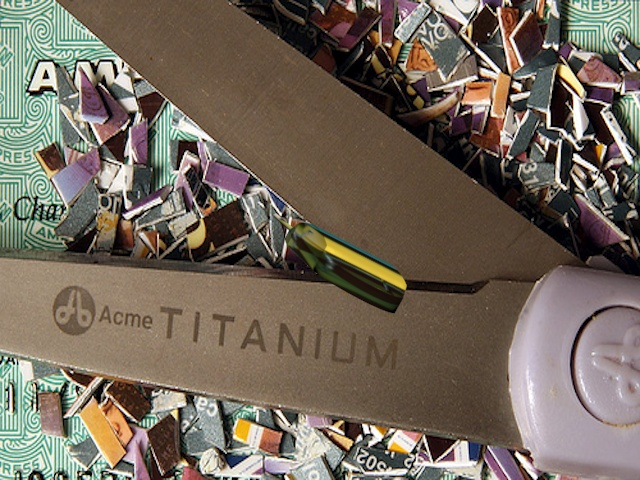mouse: (272, 208, 417, 321)
